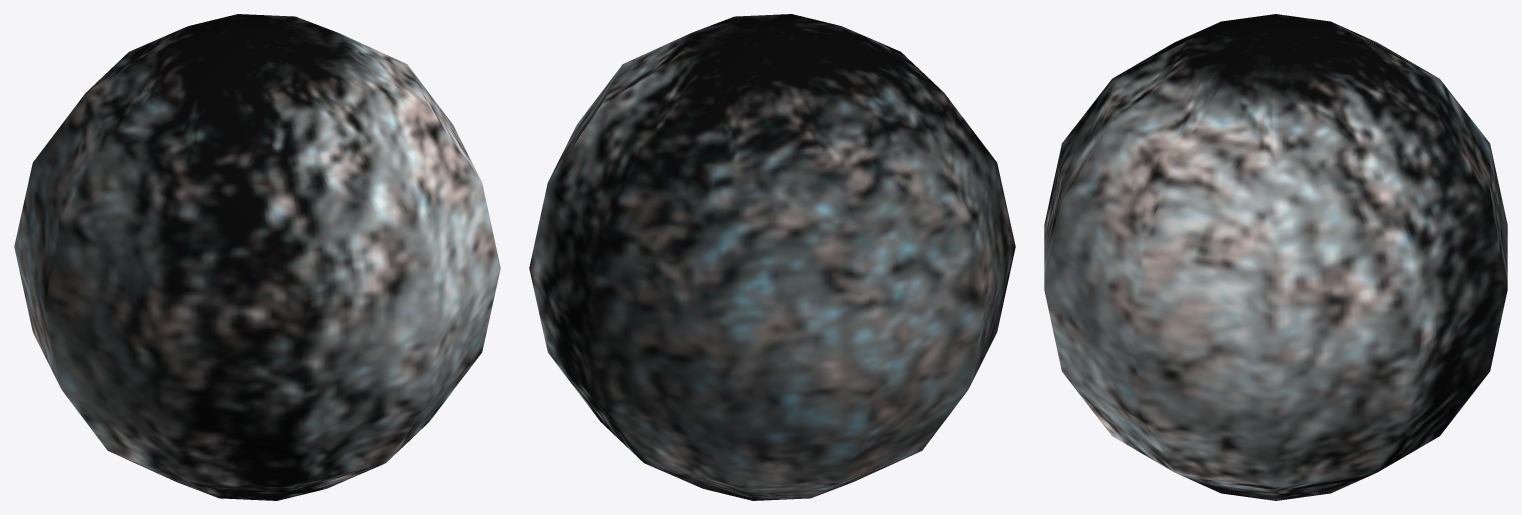
File: bgrnd55.obj
3 views of the same model, side by side, from view 1: azimuth 30°, elevation 25°; view 2: azimuth 150°, elevation 25°; view 3: azimuth 270°, elevation 25° (orthographic).
Parts seen in each view (by area): view 1: frm-sphere13; view 2: frm-sphere13; view 3: frm-sphere13.
Part boxes in pixels (x1,y1,x2,y2): frm-sphere13: (14, 14, 500, 500); frm-sphere13: (529, 14, 1015, 500); frm-sphere13: (1044, 14, 1507, 500).
Bounding box in the file's own units: 10 × 10 × 9.51.
